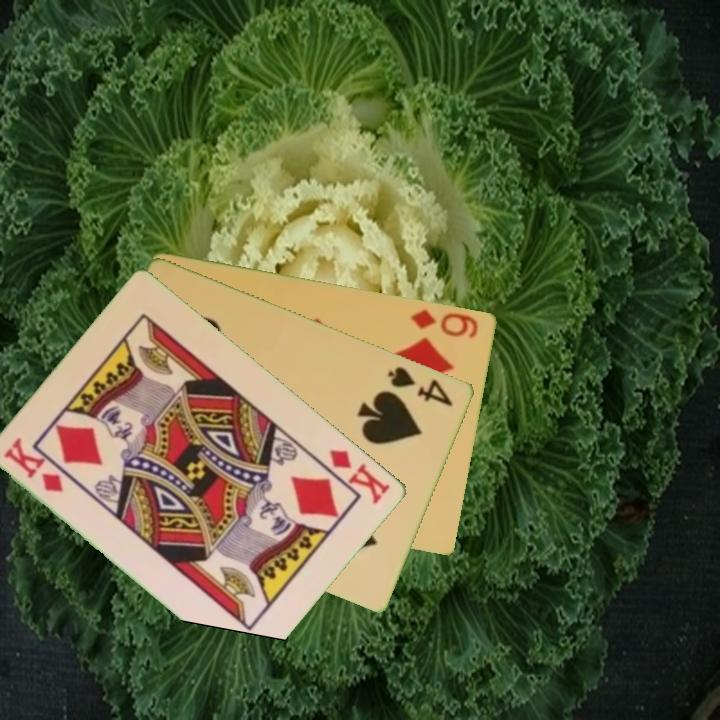4s: (384, 362, 456, 410)
6d: (407, 305, 482, 341)
Kd: (326, 445, 394, 508), (1, 434, 67, 496)
